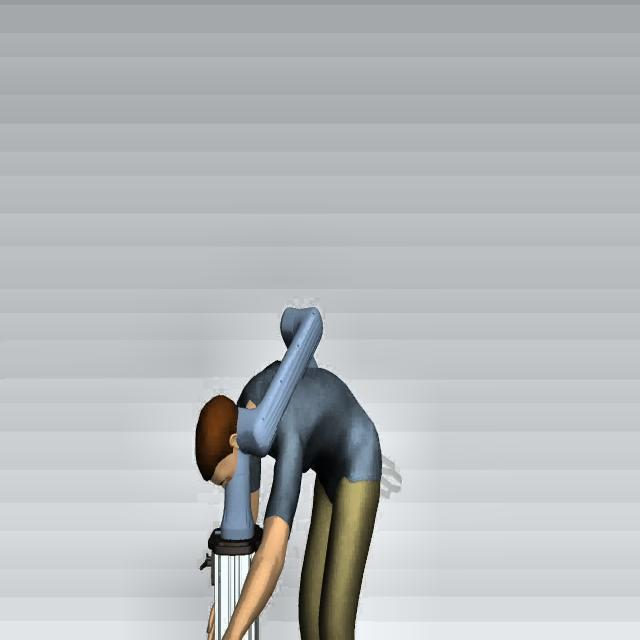robot: (215, 292, 322, 550)
